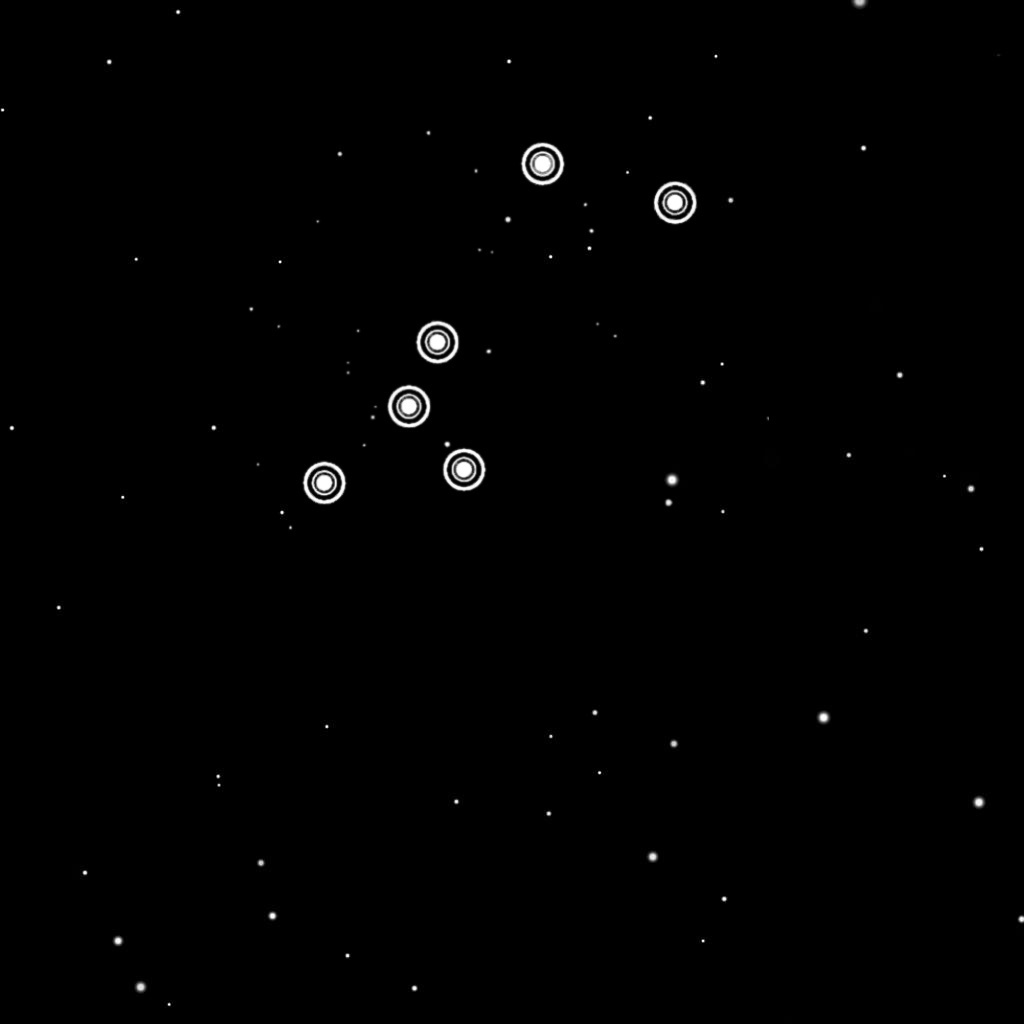canis_major: (295, 136, 702, 516)
